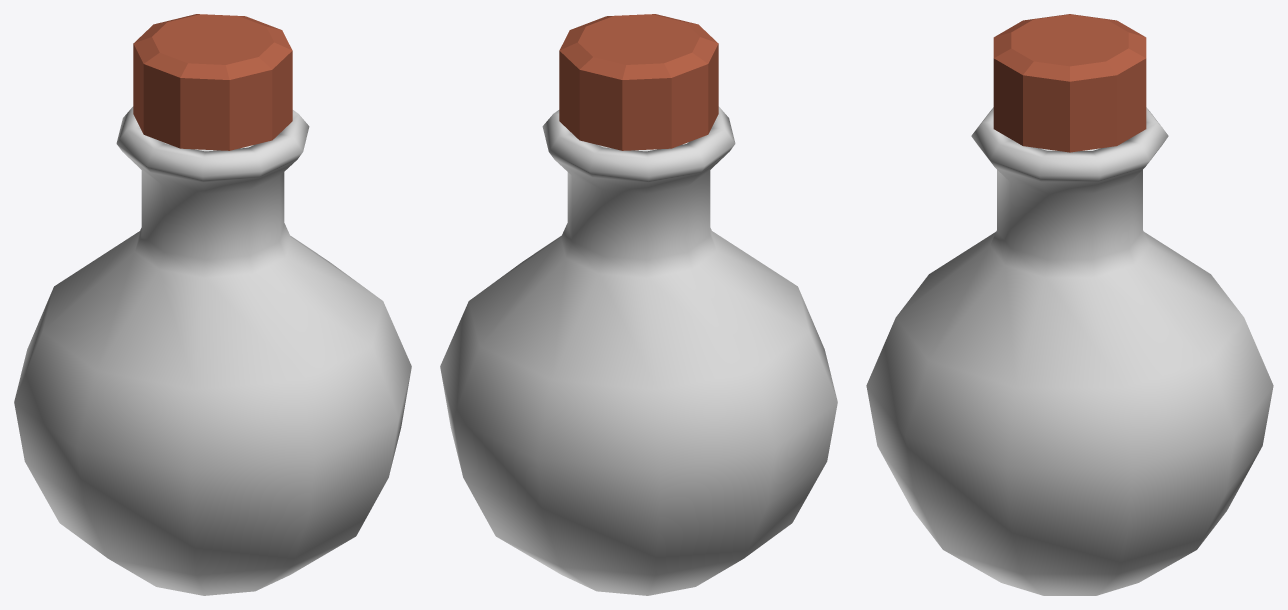
The model's file is Potion_Liquid_Pour_.fbx.
3 views of the same model, side by side, from view 1: azimuth 30°, elevation 25°; view 2: azimuth 150°, elevation 25°; view 3: azimuth 270°, elevation 25° (orthographic).
Parts seen in each view (by area): view 1: Potion.004, Potion_cap.004; view 2: Potion.004, Potion_cap.004; view 3: Potion.004, Potion_cap.004.
Boxes of the visible parts, <box> form: Potion.004: <box>14,106,411,595</box>; Potion_cap.004: <box>133,14,292,150</box>; Potion.004: <box>440,106,837,595</box>; Potion_cap.004: <box>559,14,718,150</box>; Potion.004: <box>866,107,1273,595</box>; Potion_cap.004: <box>993,14,1146,152</box>.
Size of the model in its own units: 29.51 by 43.84 by 31.03.
